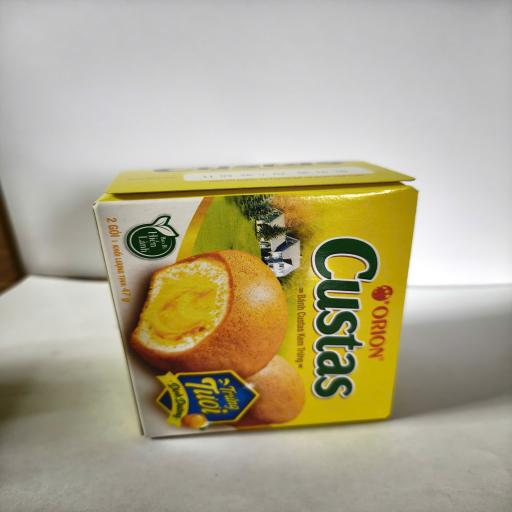custas: (92, 160, 419, 439)
